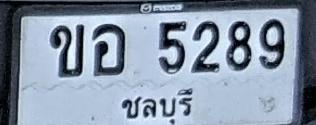2: (192, 20, 219, 72)
5: (159, 20, 186, 72)
8: (226, 20, 251, 70)
9: (260, 18, 284, 68)
A02: (50, 25, 84, 76)
A43: (92, 23, 125, 75)
CBI: (116, 86, 195, 125)
